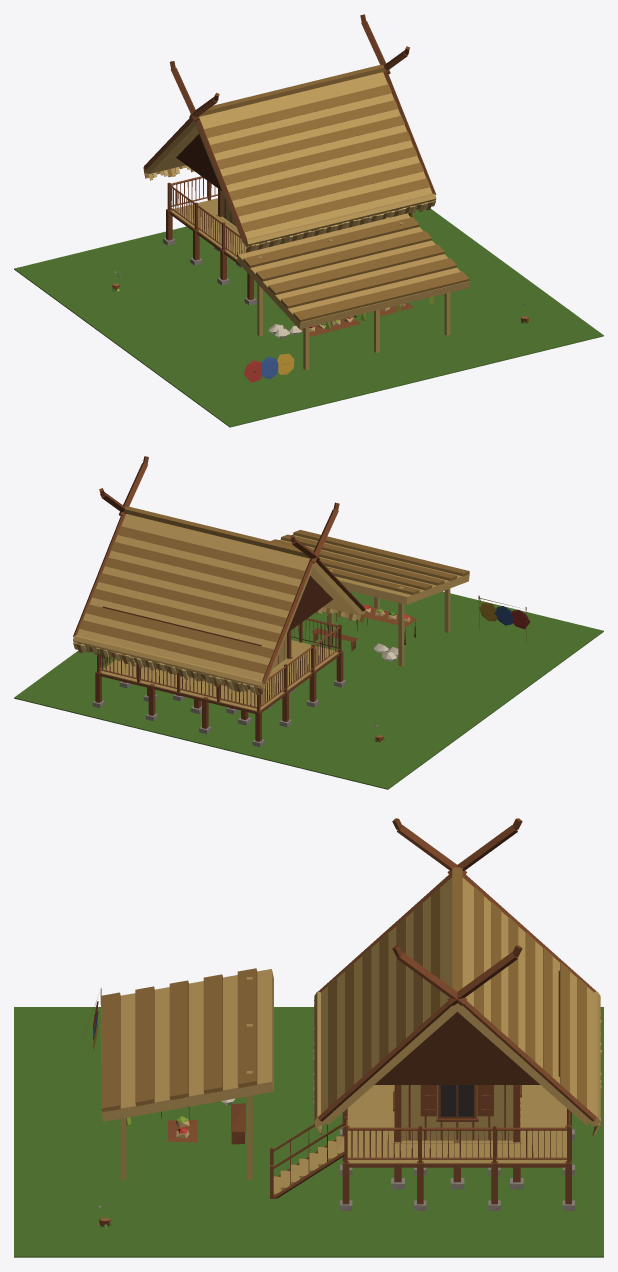
Rendered from shop_1.glb.
The picture shows the model from 3 angles, top to bottom: view 1: azimuth 30°, elevation 25°; view 2: azimuth 150°, elevation 25°; view 3: azimuth 270°, elevation 25°; orthographic projection. The views are drawn at different scales.
Parts seen in each view (by area): view 1: body; view 2: body; view 3: body, windows.
Boxes of the visible parts, x1=… form: body: x1=14, y1=14, x2=603, y2=427; body: x1=14, y1=456, x2=603, y2=789; body: x1=14, y1=818, x2=603, y2=1257; windows: x1=440, y1=1085, x2=473, y2=1116.
Bounding box in the file's own units: 15.9 × 8.37 × 15.9.
